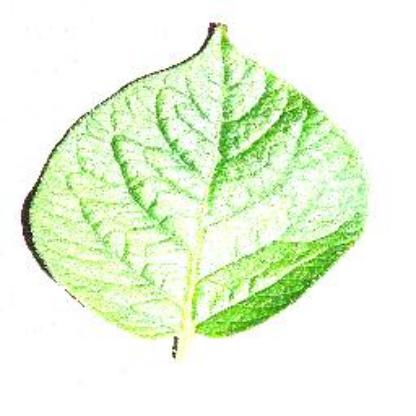Healthy-plant: (26, 20, 368, 360)
